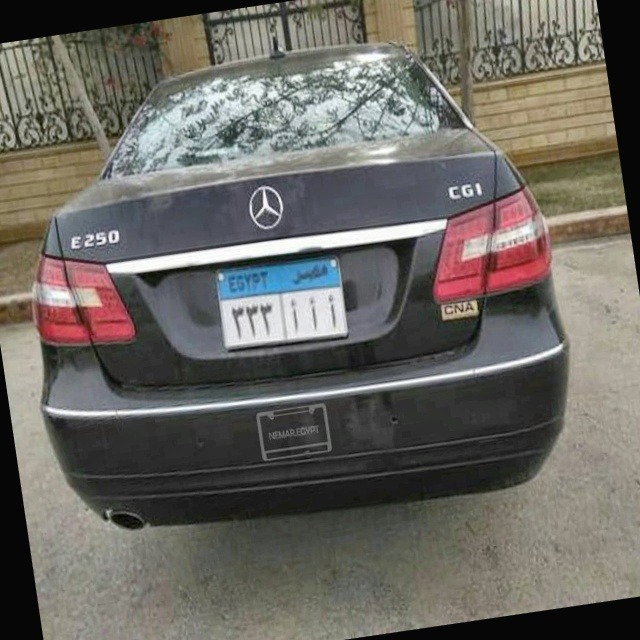License Plate: (210, 246, 355, 362)
